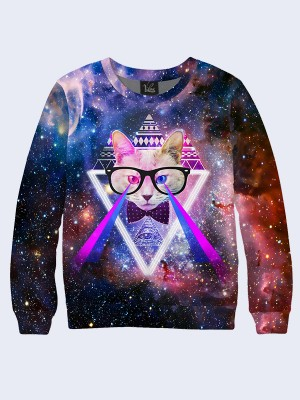cat: (100, 125, 202, 211)
